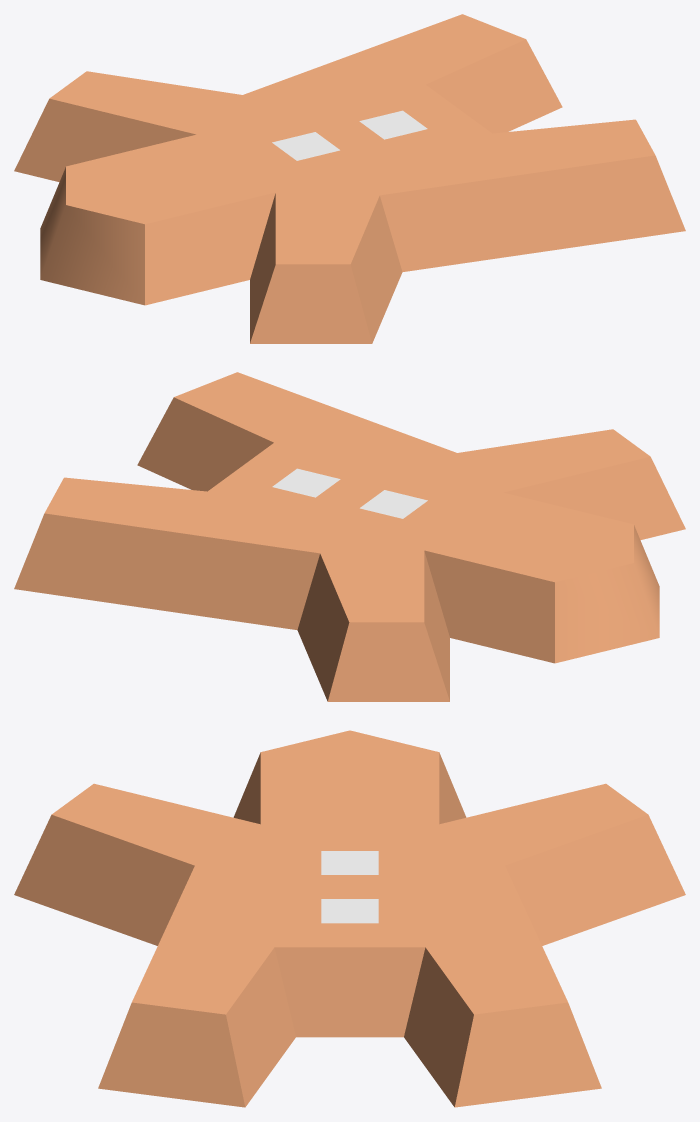
Rendered from Ginger Bread.glb.
3 views of the same model, one above another, from view 1: azimuth 30°, elevation 25°; view 2: azimuth 150°, elevation 25°; view 3: azimuth 270°, elevation 25° (orthographic). The views are drawn at different scales.
Parts seen in each view (by area): view 1: Ginger Bread; view 2: Ginger Bread; view 3: Ginger Bread.
Boxes of the visible parts, left/top/right/bottom form: Ginger Bread: left=14, top=14, right=685, bottom=343; Ginger Bread: left=14, top=372, right=685, bottom=701; Ginger Bread: left=14, top=730, right=685, bottom=1107.
Size of the model in its own units: 0.1146 by 0.0132 by 0.1036.
